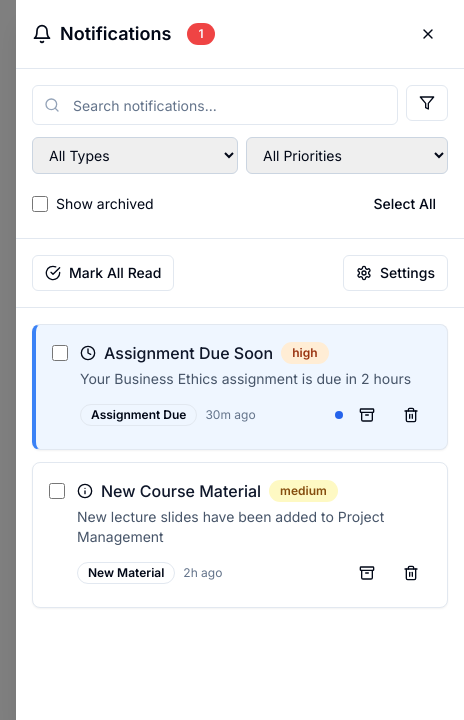
Test case: NotificationCenter › should filter notifications by search
This screenshot has width=464, height=720.
In the field with placeholder "Search notifications...": (215, 105) [32,85,398,125], type "Assignment"
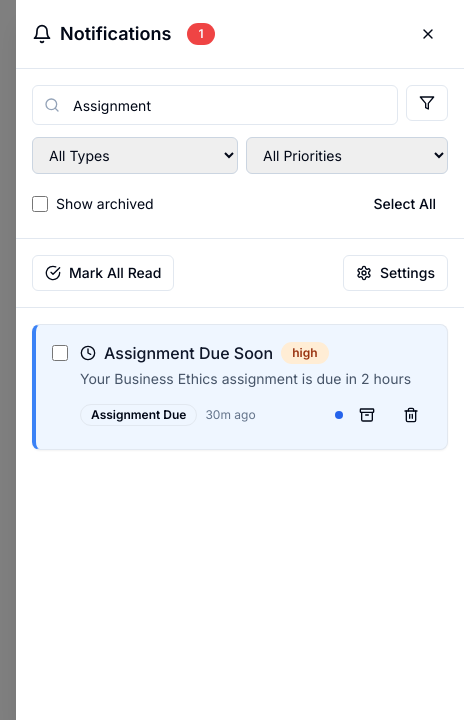
Expected: the heading "Assignment Due Soon" is shown, [104,341,273,365]
Expected: the heading "New Course Material" is gone
